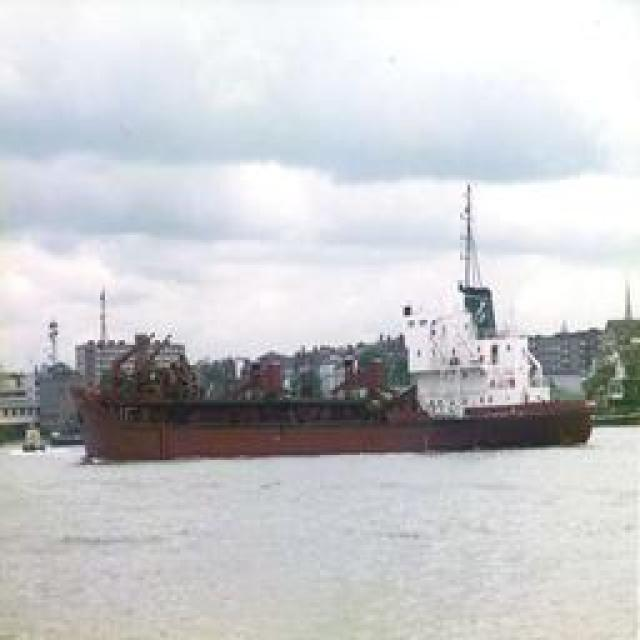CIV_Ship: (74, 326, 594, 446)
